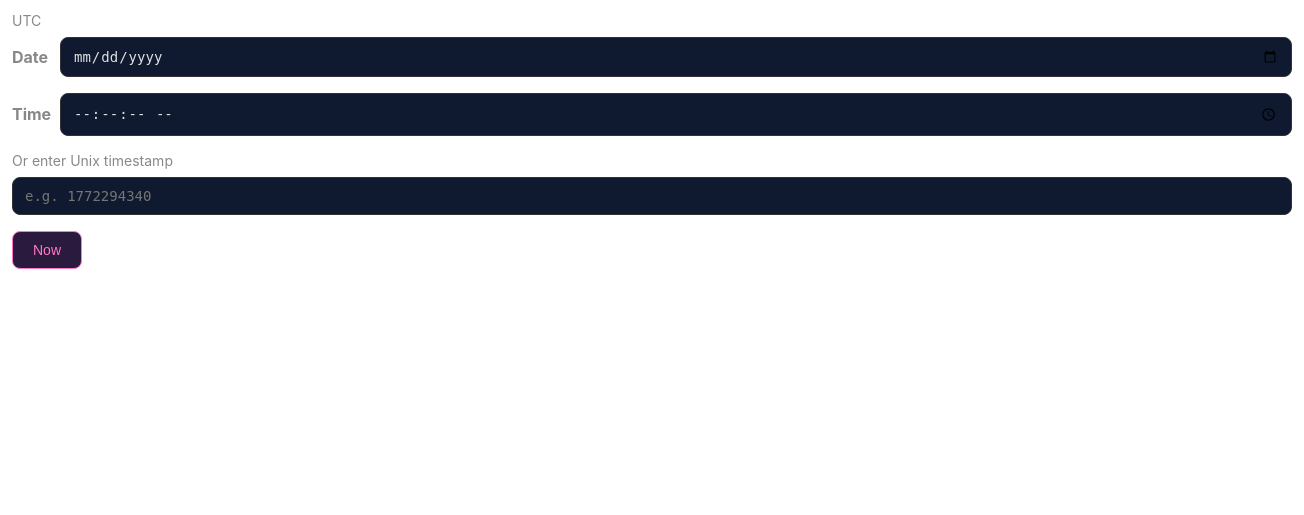
Test: DatetimeUnix › clears result for empty input
In the field with placeholder "e.g. 1772294340": point(652, 196) [12, 177, 1292, 215], type "1700000000"
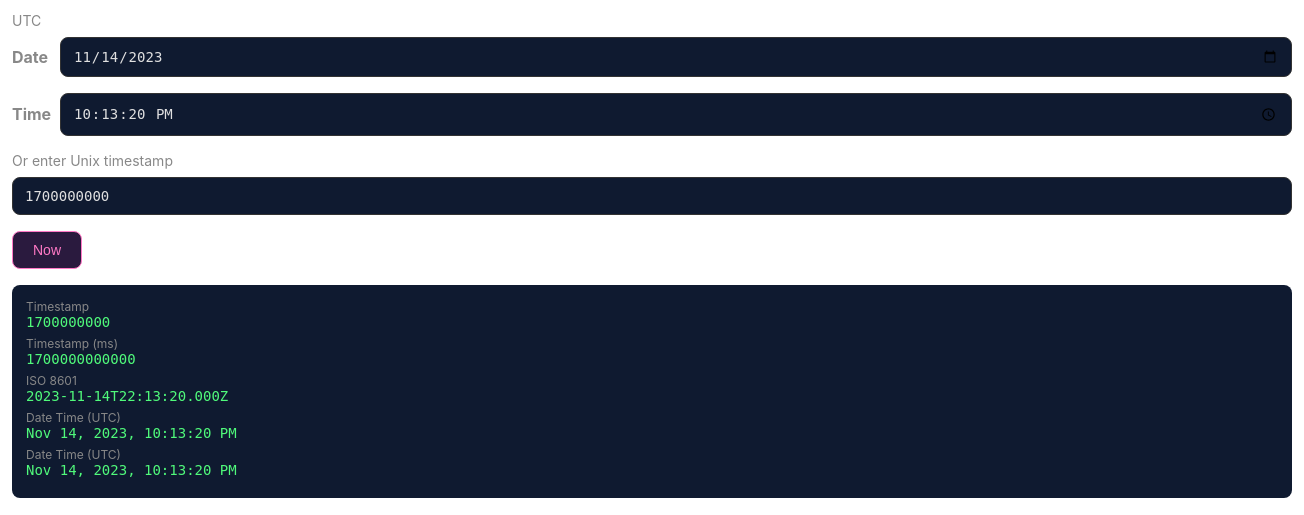
Result: the element with class "tool-result" is shown at [12, 285, 1292, 498]
Clear the field with placeholder "e.g. 1772294340": point(652, 196) [12, 177, 1292, 215]
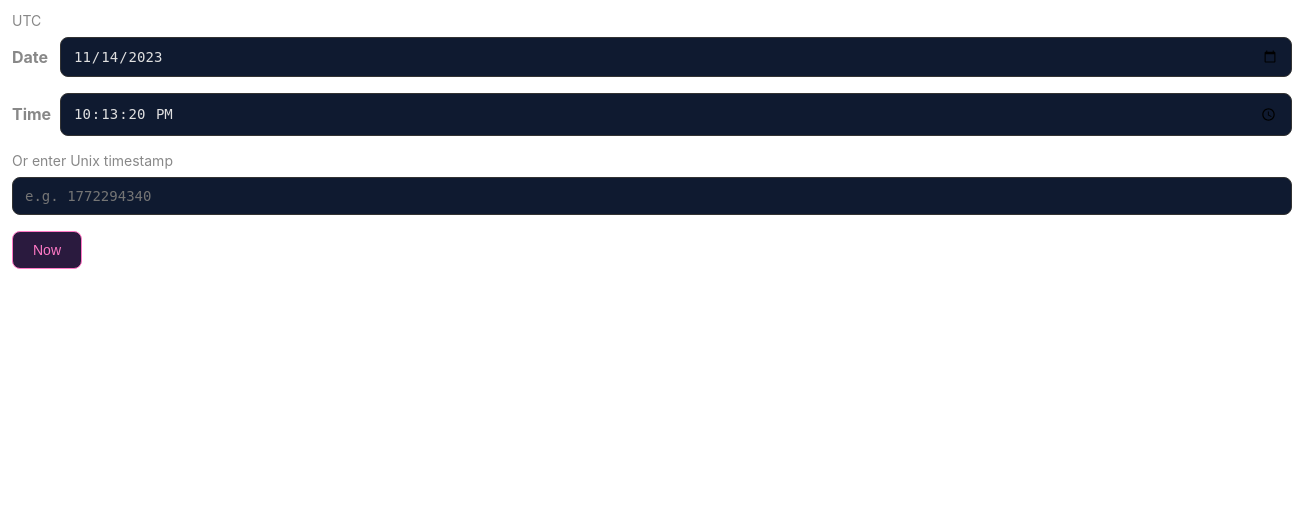
Result: the element with class "tool-result" is gone
